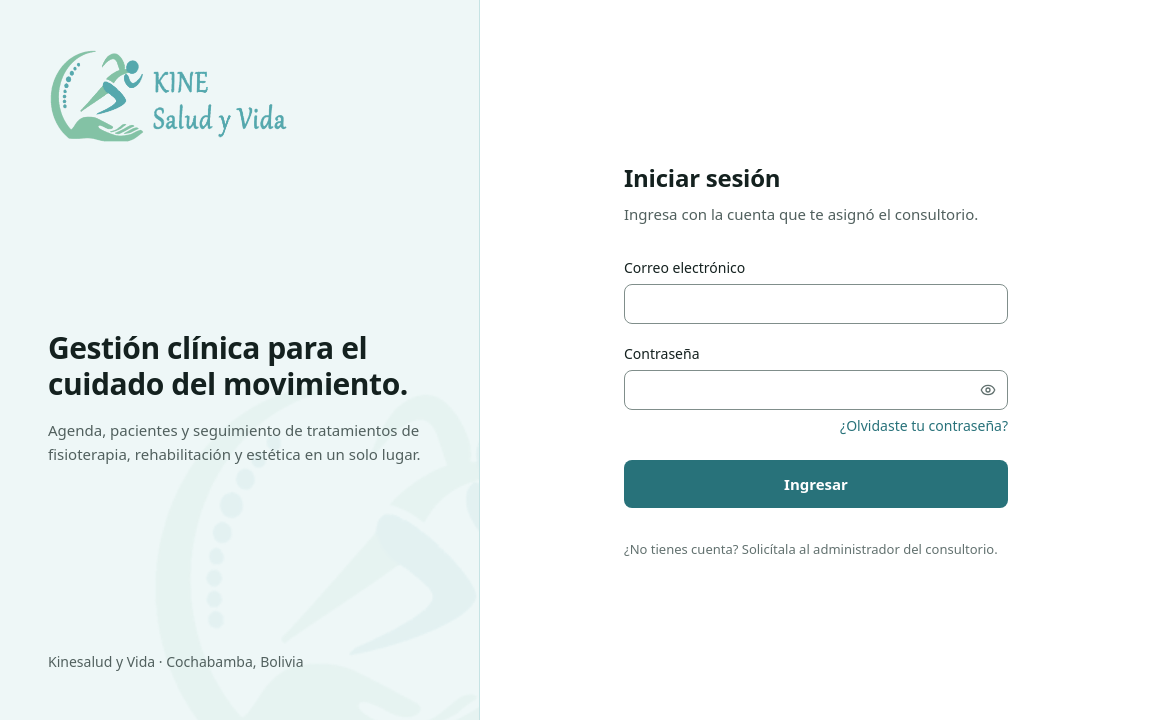
Test: LoginPage › muestra un mensaje que no revela si el correo existe
Type "nadie@kinesalud.test" into the field labelled "Correo electrónico" at (816, 304), box [624, 284, 1008, 324]
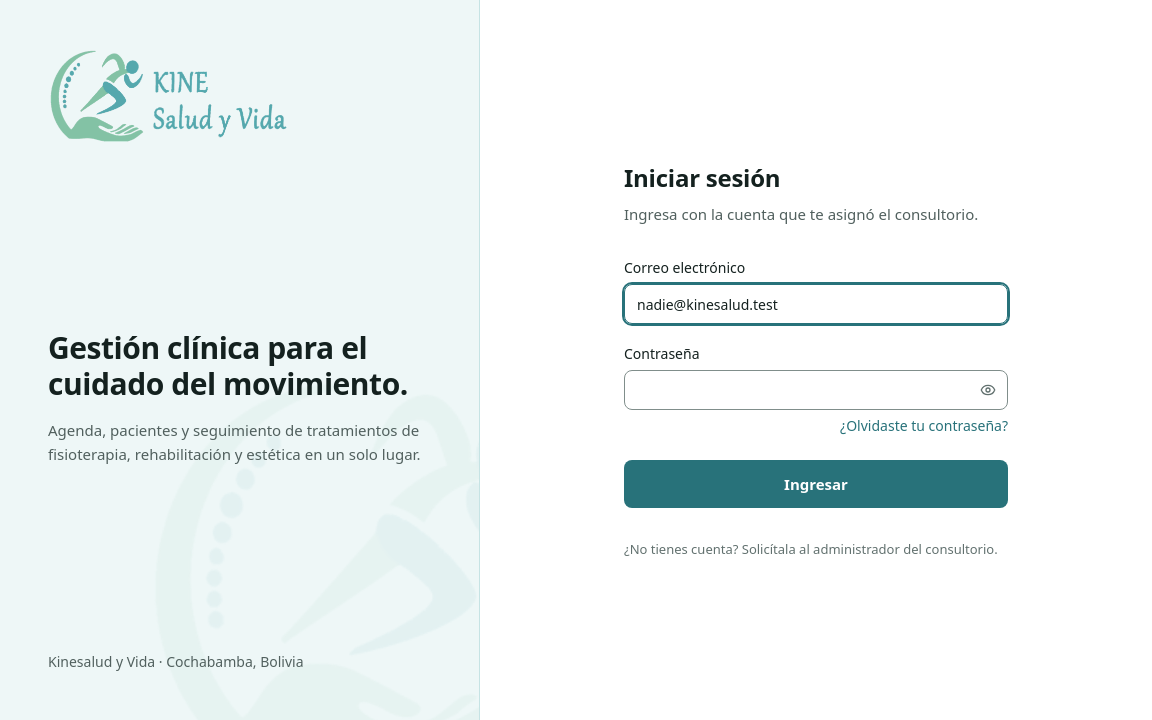
Type "x" into the password field labelled "Contraseña" at (816, 390), box [624, 370, 1008, 410]
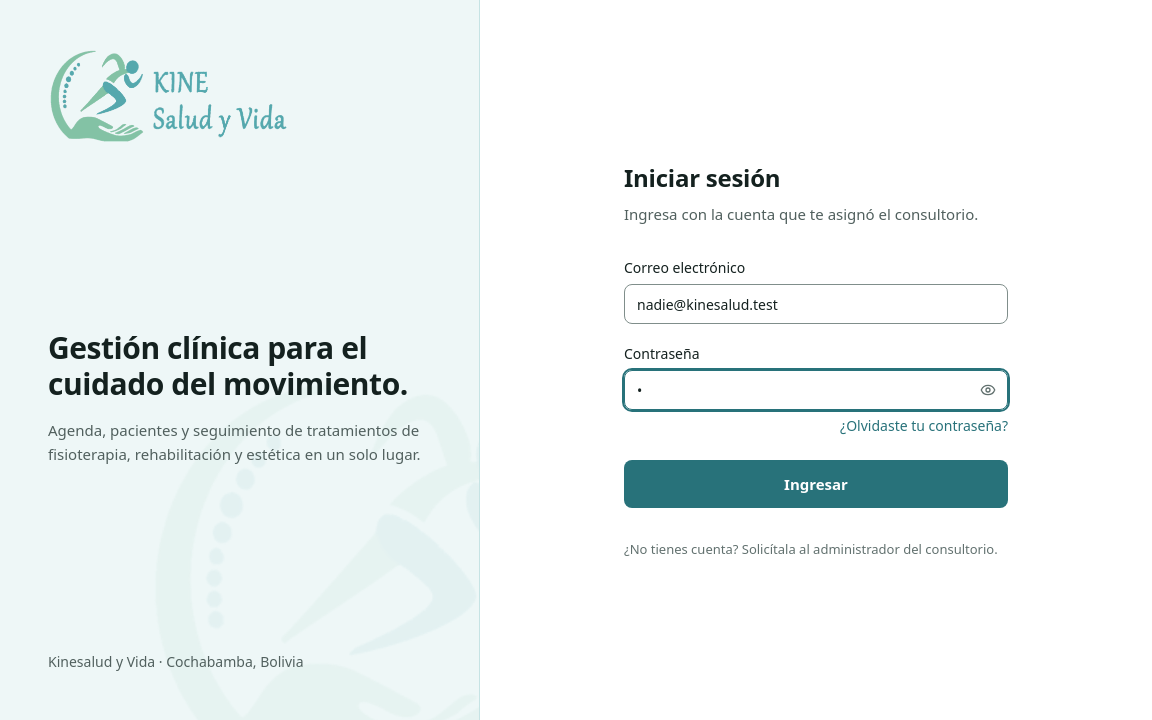
Click the button "Ingresar" at (816, 484), box [624, 460, 1008, 508]
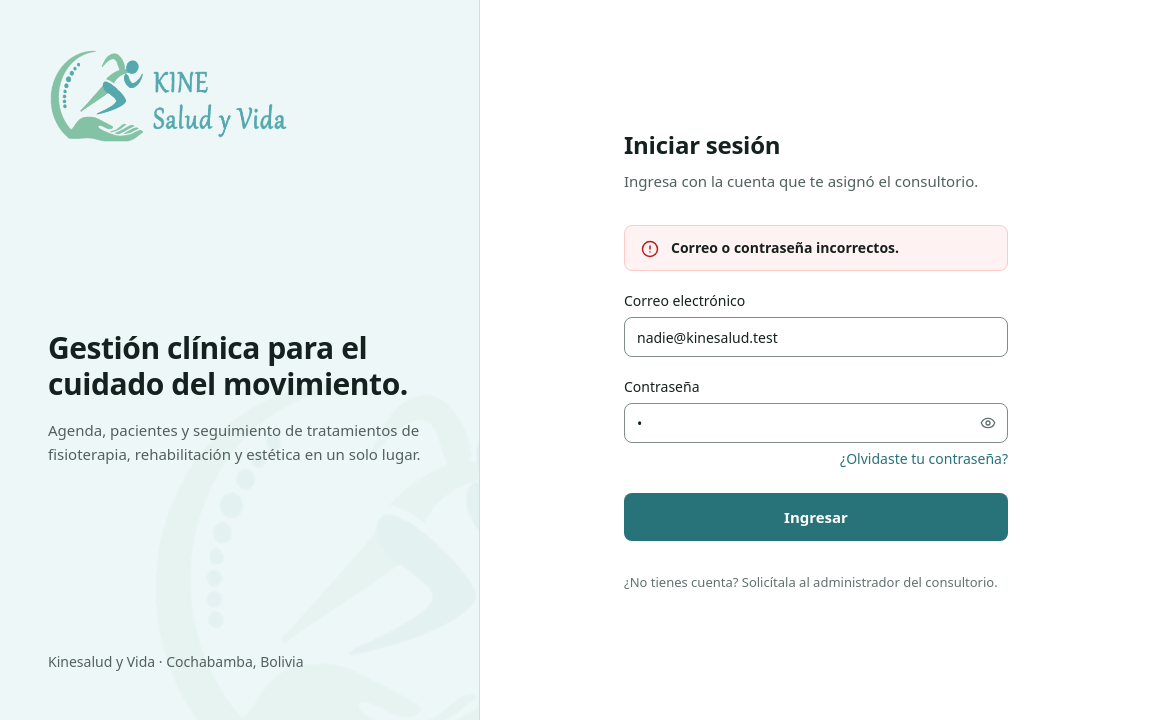
Expected: the message reads "Correo o contraseña incorrectos.", [671, 238, 899, 257]
